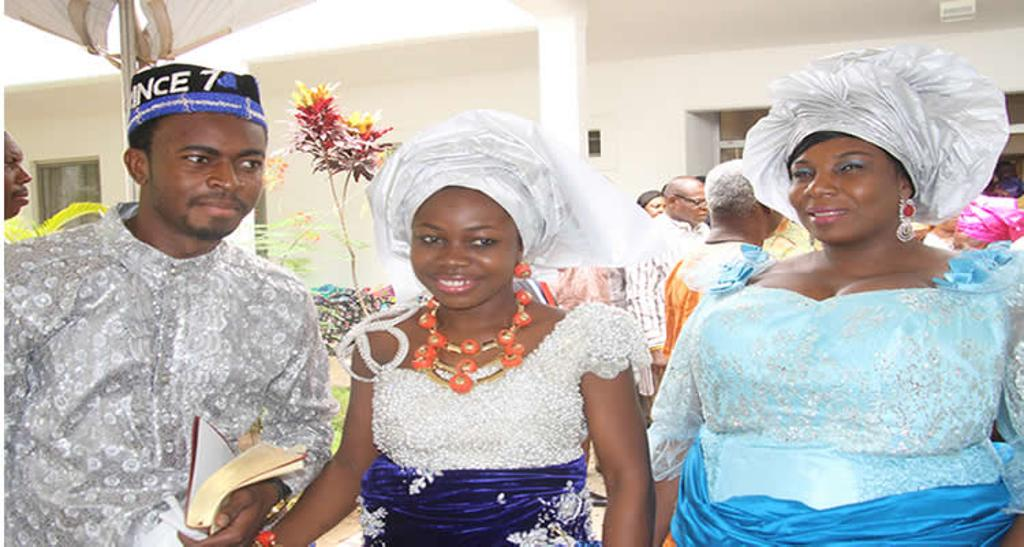face: (152, 114, 266, 237), (410, 193, 517, 307), (789, 138, 898, 245), (5, 132, 32, 220), (680, 184, 708, 221), (953, 235, 980, 262), (644, 198, 666, 221)
